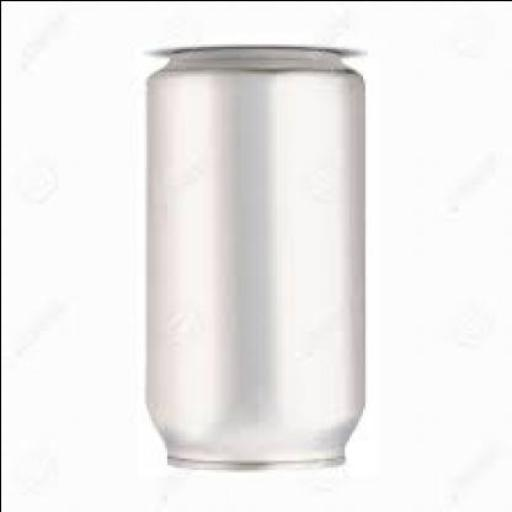metal: (144, 48, 366, 471)
